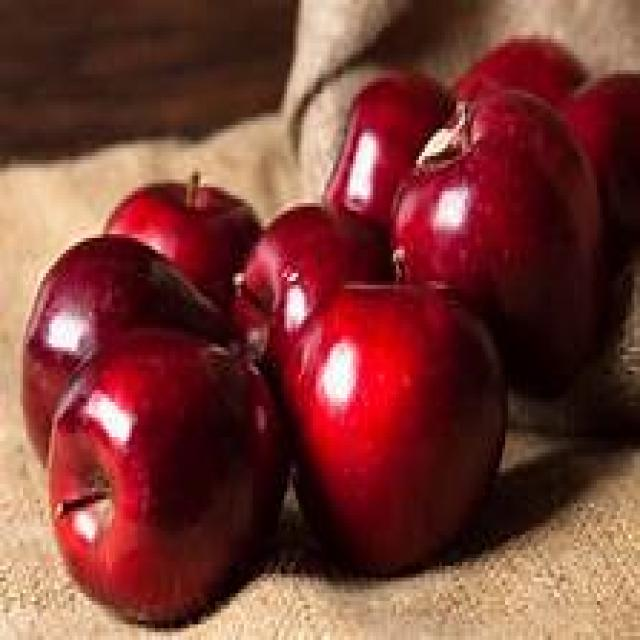apple: (41, 336, 291, 628), (290, 279, 512, 574)
